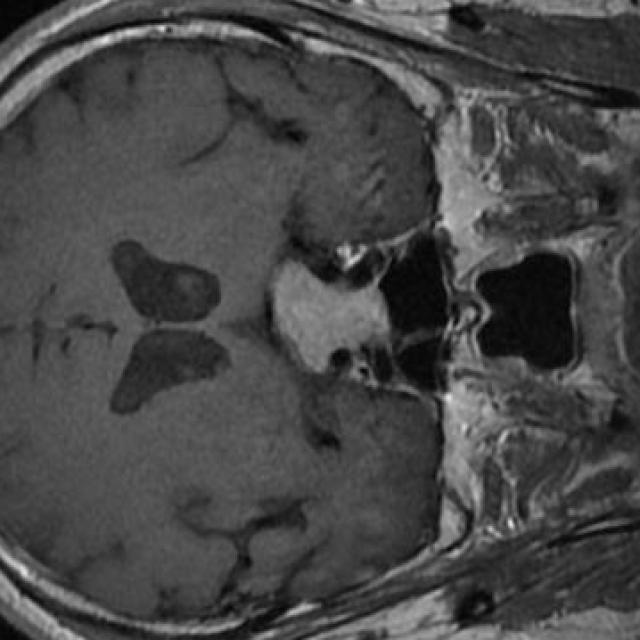pituitary: (273, 264, 387, 373)
